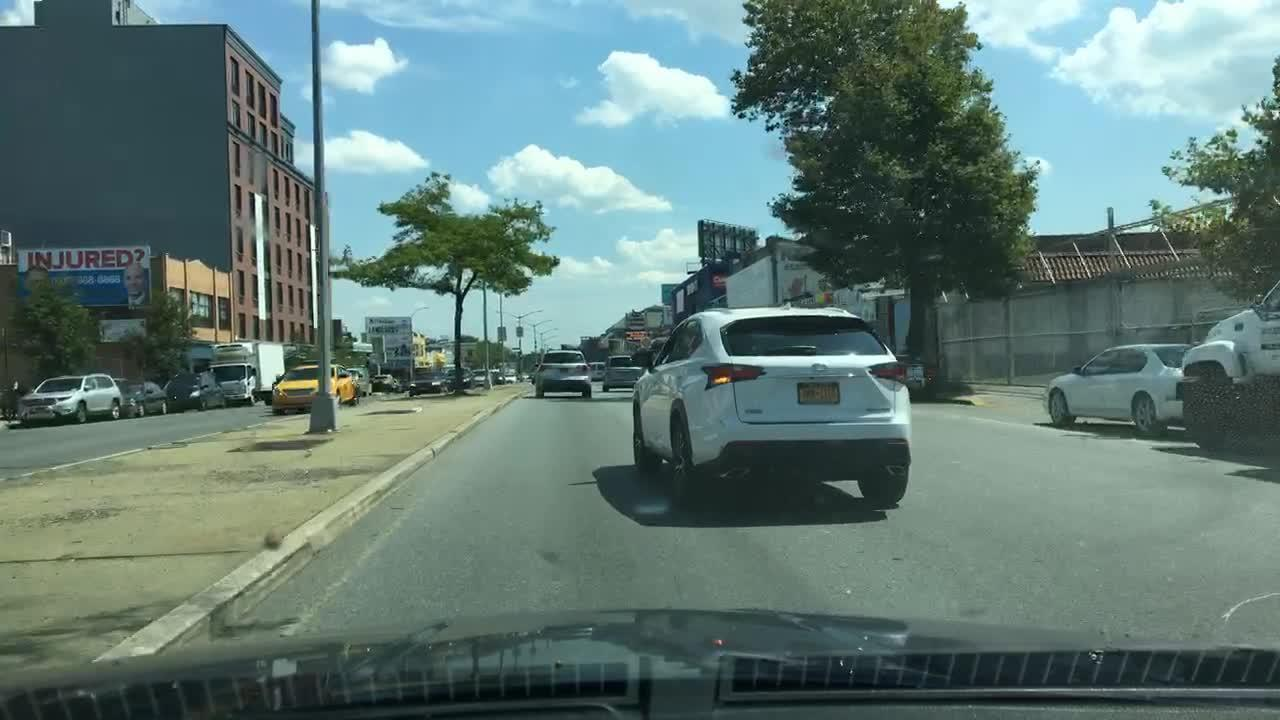lexus: (806, 359, 830, 378)
